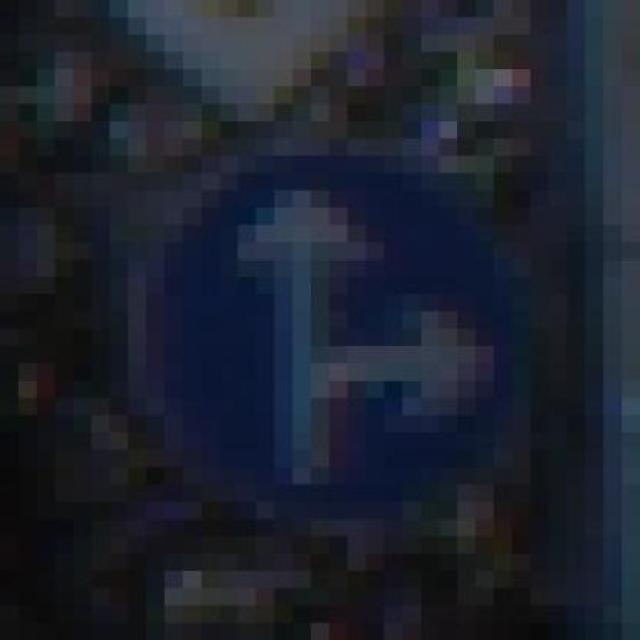Go Straight or Turn Right: (117, 138, 538, 536)
